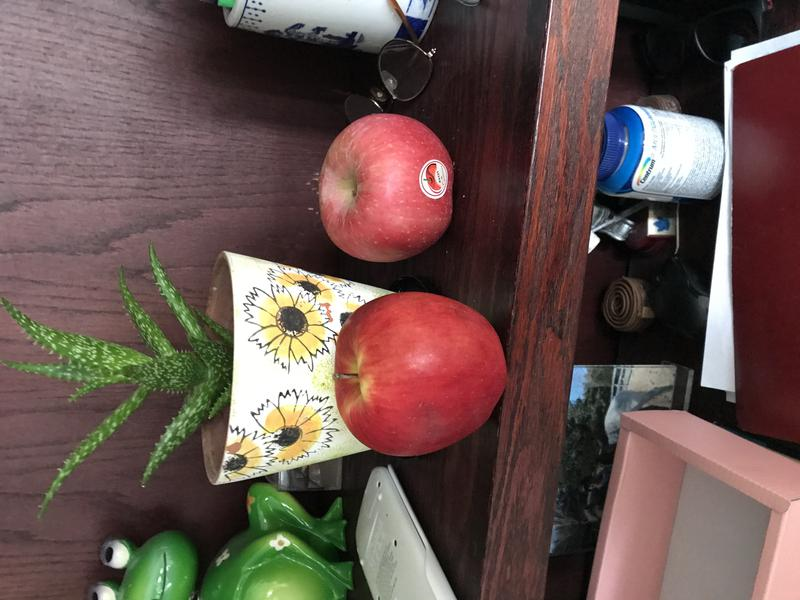red_apple: (307, 286, 520, 462), (304, 100, 467, 274)
